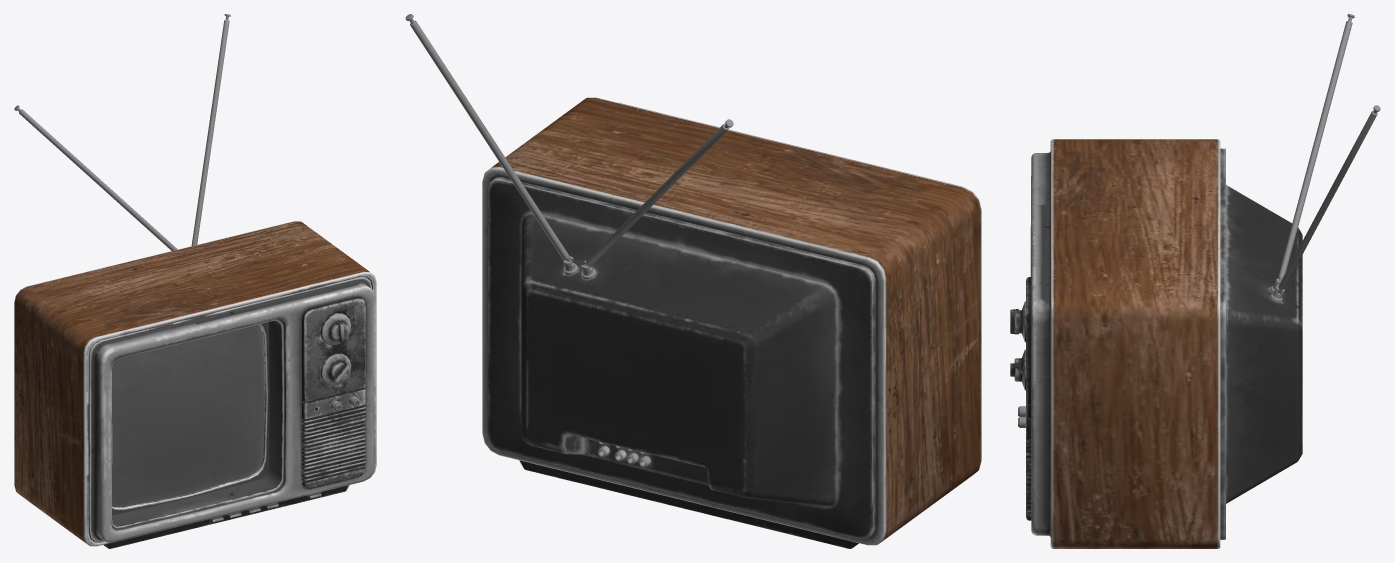
The picture shows the model from 3 angles, left to right: view 1: azimuth 30°, elevation 25°; view 2: azimuth 150°, elevation 25°; view 3: azimuth 270°, elevation 25°; orthographic projection. The views are drawn at different scales.
Parts seen in each view (by area): view 1: V-Tv; view 2: V-Tv; view 3: V-Tv.
Boxes of the visible parts, x1,y1,x2,y2 form: V-Tv: (14,14,376,548); V-Tv: (405,14,981,548); V-Tv: (1010,14,1380,548).
Bounding box in the file's own units: 0.871 × 1.07 × 0.798.
Materials: 1 (1 with a texture image).
